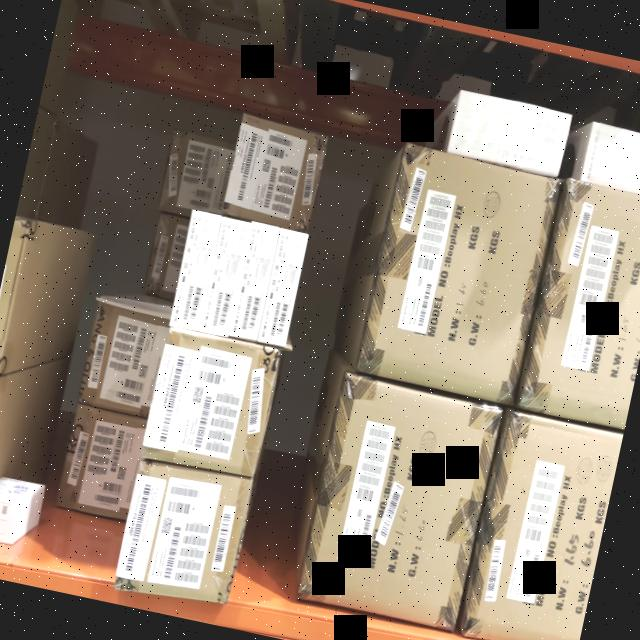box: (300, 377, 502, 633), (360, 147, 557, 406), (143, 334, 276, 478), (116, 461, 248, 601), (450, 91, 570, 175), (170, 212, 222, 334), (200, 218, 249, 336), (260, 227, 308, 347), (230, 221, 276, 340), (0, 498, 21, 546)
